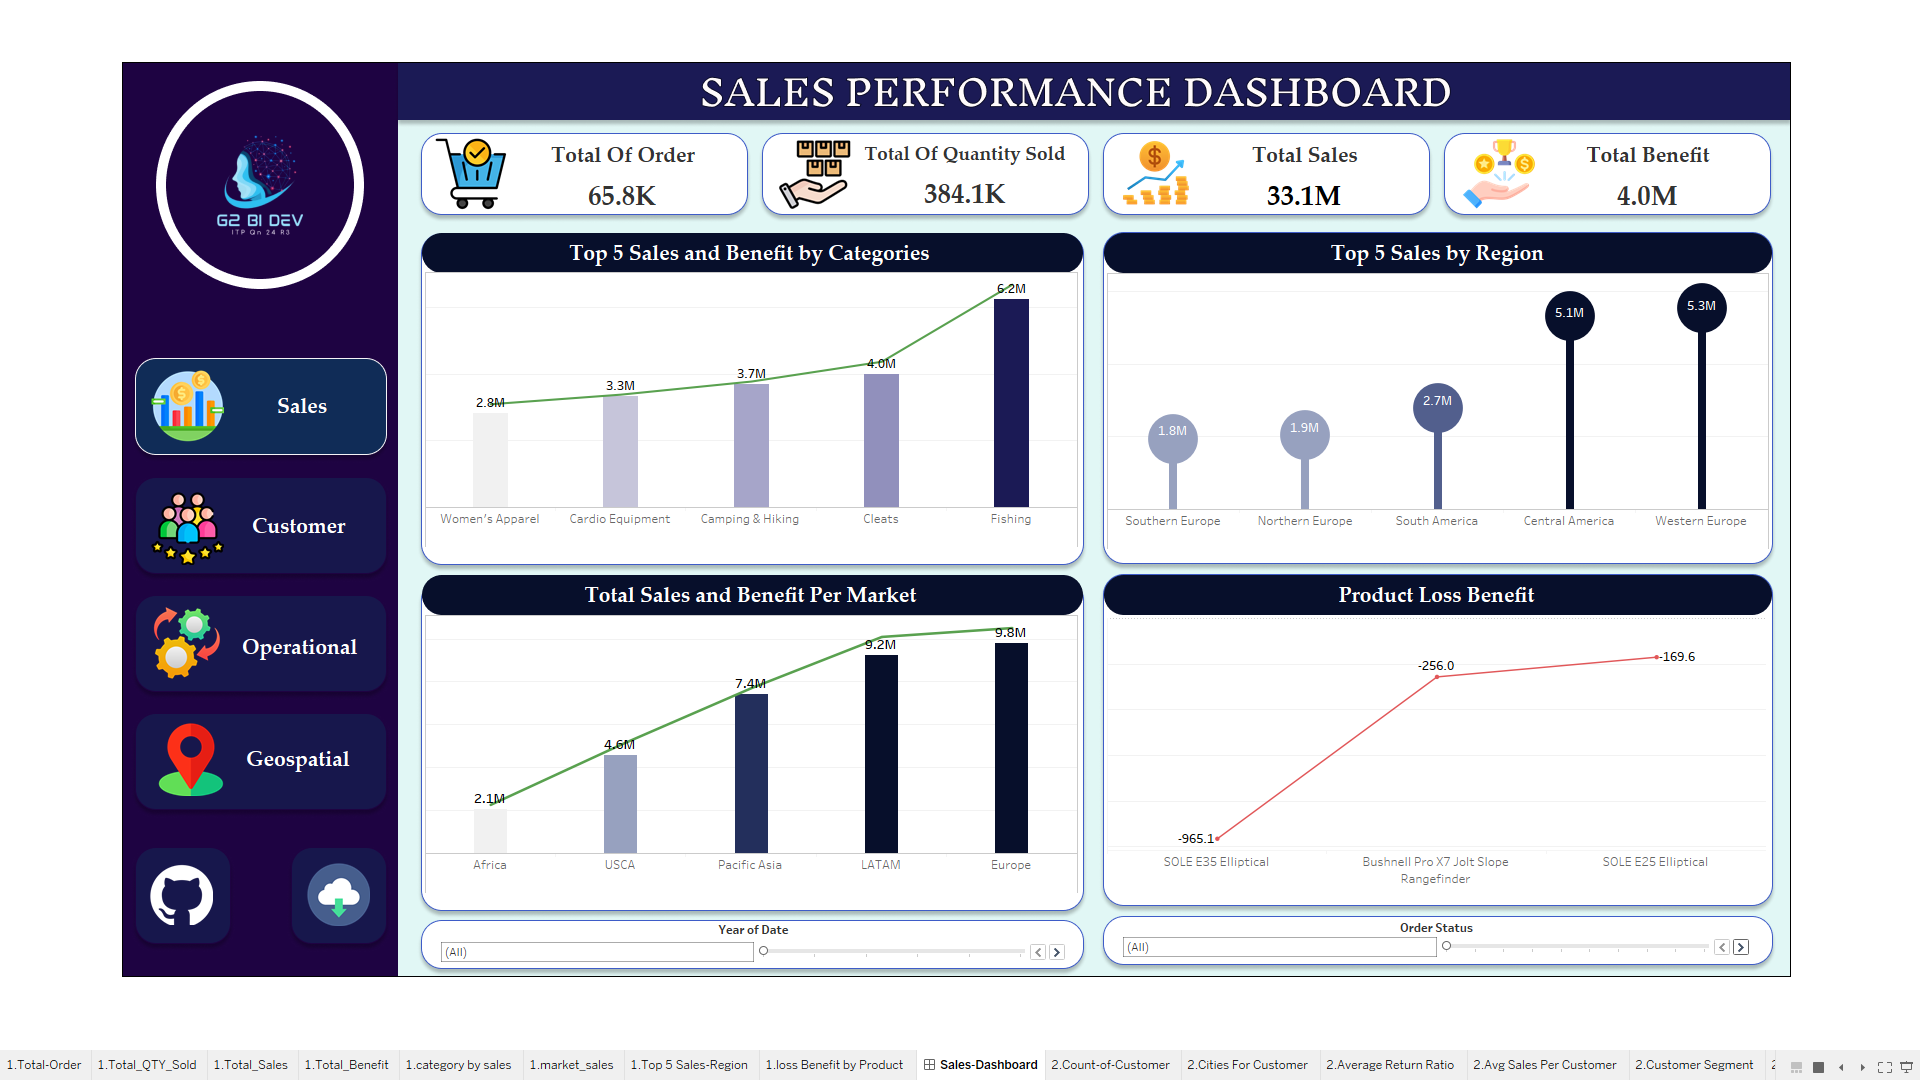

The dashboard page shown, as its layout file describes it:
{"tool":"tableau","page":{"name":"Sales-Dashboard","canvas":[1700,950],"ordinal":4},"visuals":[{"type":"image","param":"C:/Users/mahmo/OneDrive/Desktop/Sales/background/New folder (2)/Sales.png","box":[8,8,1684,934]},{"type":"image","param":"C:/Users/mahmo/OneDrive/Desktop/Sales-project/ICONS/total_order.png","box":[321,86,80,75]},{"type":"worksheet","title":"1.Total-Order","mark":"Automatic","box":[408,86,210,75]},{"type":"worksheet","title":"1.Total_QTY_Sold","mark":"Automatic","box":[750,86,210,75]},{"type":"image","param":"C:/Users/mahmo/OneDrive/Desktop/Sales-project/ICONS/total_sales.png","box":[1006,86,80,75]},{"type":"worksheet","title":"1.Total_Sales","mark":"Automatic","box":[1090,86,210,75]},{"type":"image","param":"C:/Users/mahmo/OneDrive/Desktop/Sales-project/ICONS/total_benefit.png","box":[1349,86,80,75]},{"type":"worksheet","title":"1.Total_Benefit","mark":"Automatic","box":[1433,86,210,75]},{"type":"image","param":"C:/Users/mahmo/OneDrive/Desktop/Sales-project/ICONS/total_QTY.png","box":[665,88,80,73]},{"type":"text","box":[1015,183,625,38]},{"type":"text","box":[325,184,629,36]},{"type":"worksheet","title":"1.category by sales","mark":"Automatic","rows":["Total_Sales","BenifitPerOrder"],"cols":["Category_Name"],"box":[315,222,653,276]},{"type":"worksheet","title":"1.Top 5 Sales-Region","mark":"Automatic","rows":["Total_Sales","Total_Sales"],"cols":["Rejon_Name"],"box":[997,223,662,277]},{"type":"image","param":"C:/Users/mahmo/OneDrive/Desktop/Sales-project/ICONS/sales-dashboard.png","box":[41,308,73,95]},{"type":"dashboard-object","box":[116,320,153,70]},{"type":"image","param":"C:/Users/mahmo/OneDrive/Desktop/Sales-project/ICONS/customer-dashboard.png","box":[41,431,73,95]},{"type":"dashboard-object","box":[113,440,153,70]},{"type":"text","box":[328,525,625,38]},{"type":"text","box":[1015,527,623,34]},{"type":"image","param":"C:/Users/mahmo/OneDrive/Desktop/Sales-project/ICONS/operational-dashboard.png","box":[40,545,73,95]},{"type":"dashboard-object","box":[114,562,153,69]},{"type":"worksheet","title":"1.market_sales","mark":"Automatic","rows":["Total_Sales","BenifitPerOrder"],"cols":["Market_Name"],"box":[315,565,653,279]},{"type":"worksheet","title":"1.loss Benefit by Product","mark":"Line","rows":["Calculation_348466078747049984"],"cols":["Product_Name"],"box":[997,568,659,272]},{"type":"image","param":"C:/Users/mahmo/OneDrive/Desktop/Sales-project/ICONS/geo-dashboard.png","box":[44,662,73,95]},{"type":"dashboard-object","box":[114,674,153,69]},{"type":"image","param":"C:/Users/mahmo/OneDrive/Desktop/Sales-project/ICONS/github-mark-white.png","box":[40,810,63,70]},{"type":"dashboard-object","box":[197,810,63,70]},{"type":"filter","title":"1.Total-Order","param":"[federated.0a7f3eg1xpprtt1e4fdhm1t957b5].[none:Order_Status:nk]","box":[1010,869,633,42]},{"type":"filter","title":"1.Total-Order","param":"[federated.0a7f3eg1xpprtt1e4fdhm1t957b5].[yr:Date:ok]","box":[328,871,631,44]}]}

Visuals, with their boxes on the page's 1700x950 design canvas (x1, y1, x2, y2). These are canvas units, not pixel positions in the 1920x1080 screenshot, which may show the page scaled, cropped or inside an application window:
image: 8/8/1692/942
image: 321/86/401/161
"1.Total-Order" worksheet: 408/86/618/161
"1.Total_QTY_Sold" worksheet: 750/86/960/161
image: 1006/86/1086/161
"1.Total_Sales" worksheet: 1090/86/1300/161
image: 1349/86/1429/161
"1.Total_Benefit" worksheet: 1433/86/1643/161
image: 665/88/745/161
text: 1015/183/1640/221
text: 325/184/954/220
"1.category by sales" worksheet: 315/222/968/498
"1.Top 5 Sales-Region" worksheet: 997/223/1659/500
image: 41/308/114/403
dashboard-object: 116/320/269/390
image: 41/431/114/526
dashboard-object: 113/440/266/510
text: 328/525/953/563
text: 1015/527/1638/561
image: 40/545/113/640
dashboard-object: 114/562/267/631
"1.market_sales" worksheet: 315/565/968/844
"1.loss Benefit by Product" worksheet (Line marks): 997/568/1656/840
image: 44/662/117/757
dashboard-object: 114/674/267/743
image: 40/810/103/880
dashboard-object: 197/810/260/880
"1.Total-Order" filter: 1010/869/1643/911
"1.Total-Order" filter: 328/871/959/915
